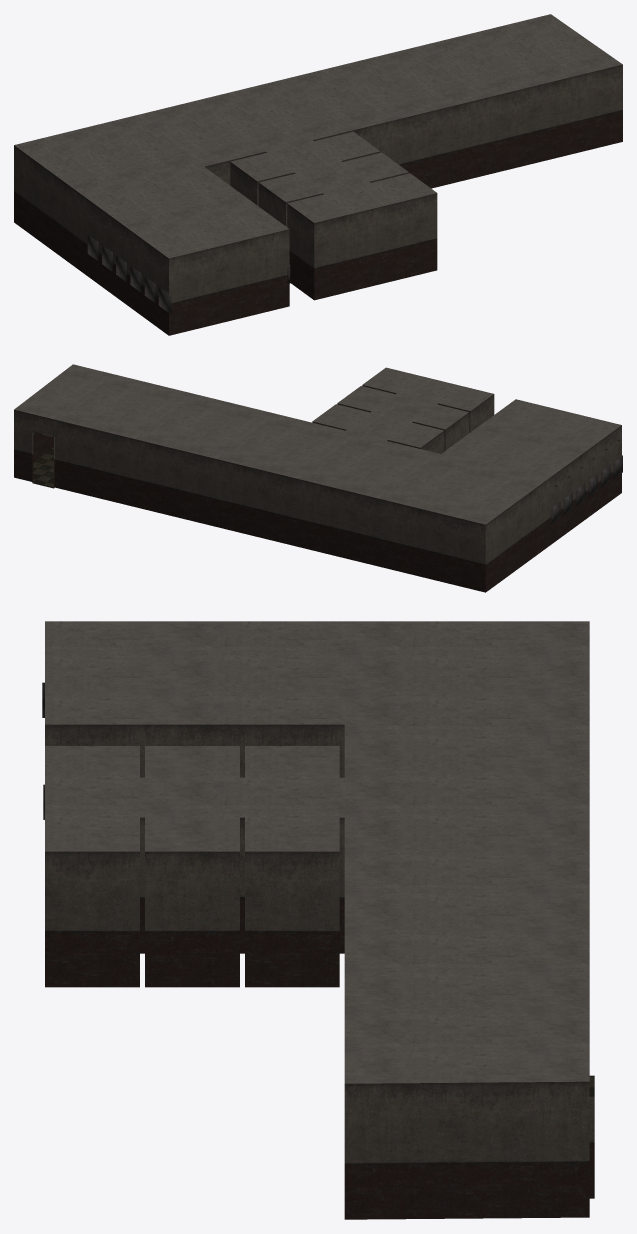
File: showers.glb
3 views of the same model, one above another, from view 1: azimuth 30°, elevation 25°; view 2: azimuth 150°, elevation 25°; view 3: azimuth 270°, elevation 25° (orthographic). The views are drawn at different scales.
Parts seen in each view (by area): view 1: Showers; view 2: Showers; view 3: Showers.
Boxes of the visible parts, left/top/right/bottom form: Showers: left=14, top=14, right=622, bottom=335; Showers: left=14, top=364, right=622, bottom=592; Showers: left=42, top=621, right=594, bottom=1219.
Size of what is drawn, in the model's own units: 21.98 by 3 by 11.05.
Materials: 5 (5 with a texture image).
